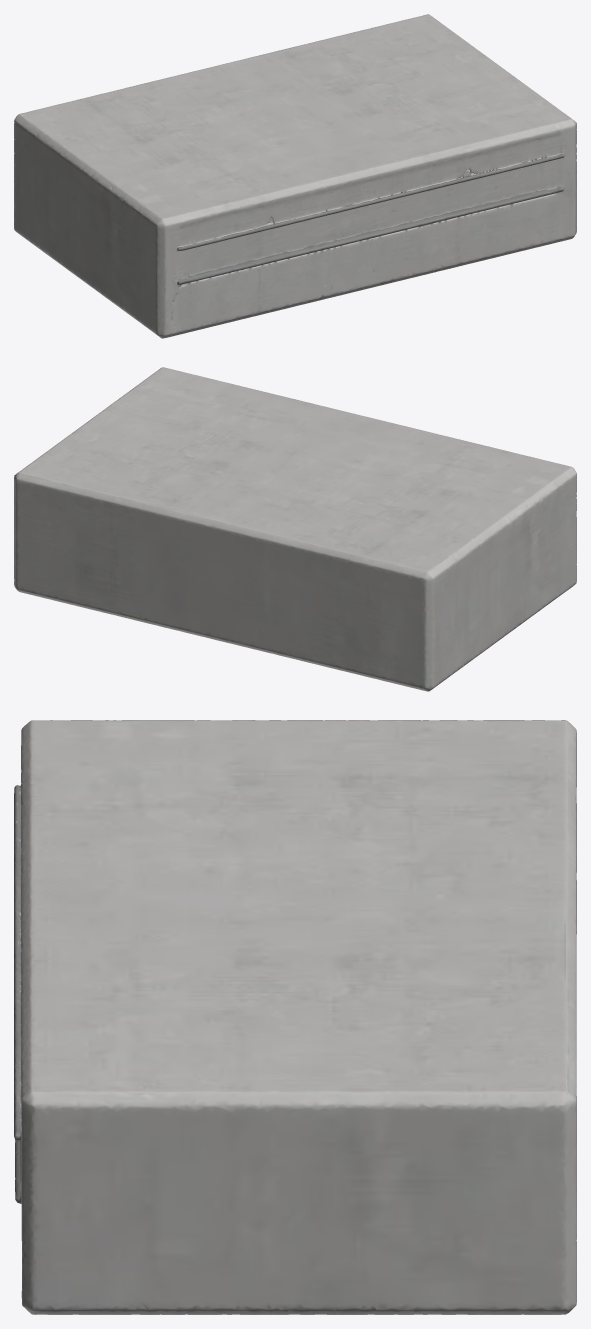
File: test_trellis_out.glb
3 renders of one model, top to bottom at view 1: azimuth 30°, elevation 25°; view 2: azimuth 150°, elevation 25°; view 3: azimuth 270°, elevation 25°, orthographic. The views are drawn at different scales.
Parts seen in each view (by area): view 1: world; view 2: world; view 3: world.
Part boxes in pixels (x1,y1,x2,y2): world: [14, 14, 576, 338]; world: [14, 367, 576, 691]; world: [14, 720, 576, 1314].
Bounding box in the file's own units: 1 × 0.2739 × 0.6263.
Materials: 1 (1 with a texture image).
